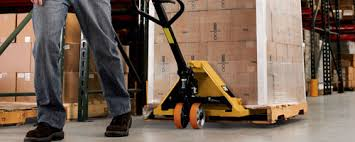Pallet Jack: (131, 1, 308, 131)
